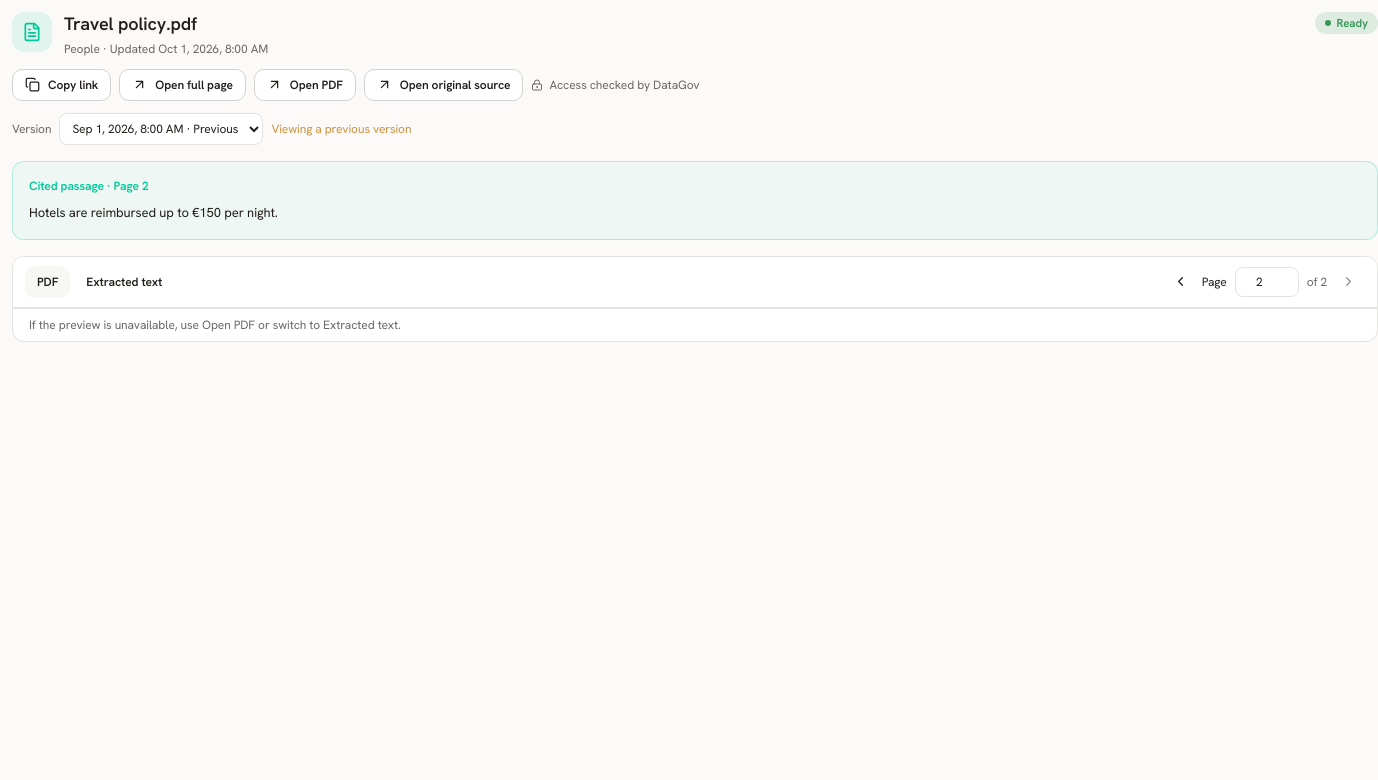
Test: authorized document reader › opens the cited version and PDF page, with readable extracted text
Expected: the heading "Travel policy.pdf" is shown, [64,12,197,35]
Expected: the text "Viewing a previous version" is shown, [271,121,411,137]
What coordinates should you click on to do the following:
click the button "Extracted text"
I would click on:
 (124, 282)
Its box is [74,266,174,298].
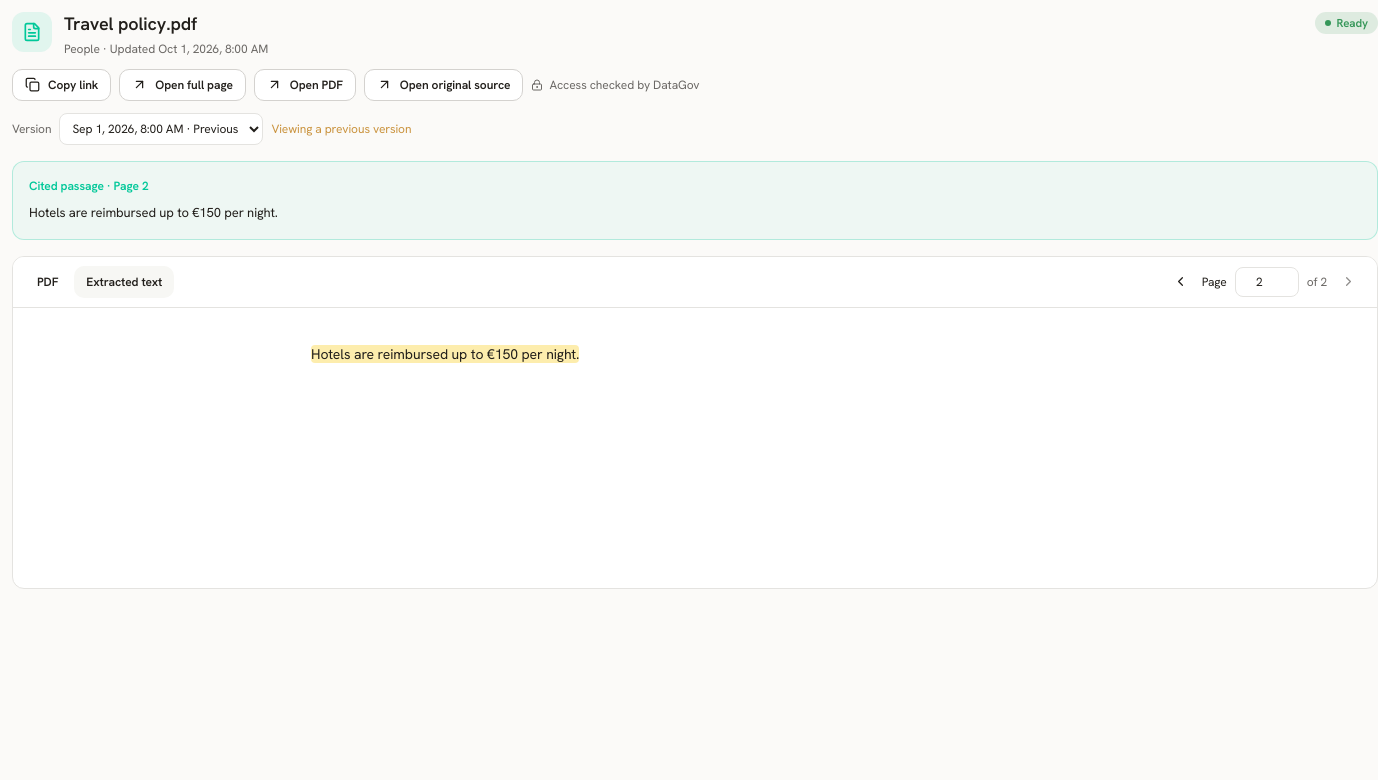
Expected: the text "Hotels are reimbursed up to €150 per night." is shown 2 times, [29,204,278,221]; [311,345,579,363]
Now the 2nd text "Hotels are reimbursed up to €150 per night." is shown, box [311,345,579,363]
What coordinates should you click on to do the following:
click the button named "Previous page"
I would click on:
 (1181, 282)
Its box is [1164,265,1198,299].
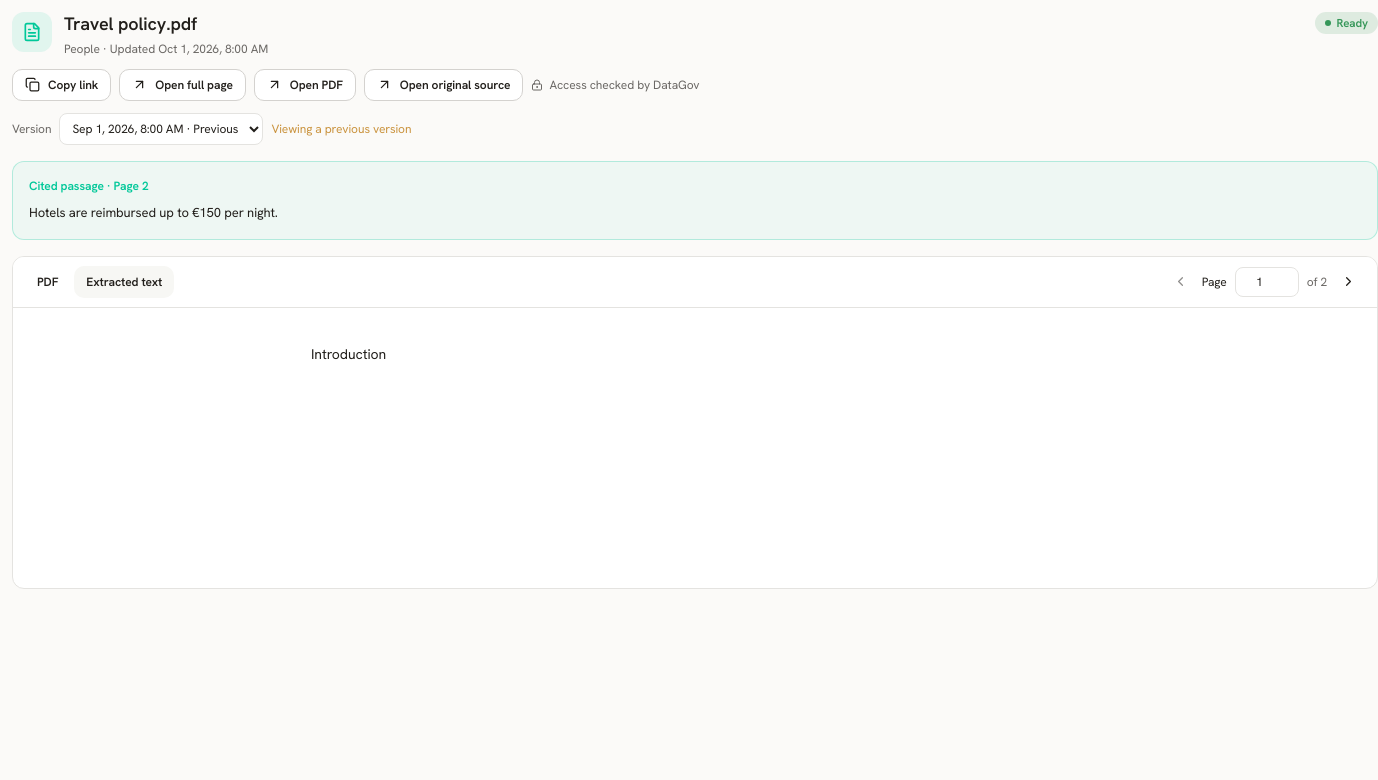
Now the text "Introduction" is shown, box [311,345,386,363]
